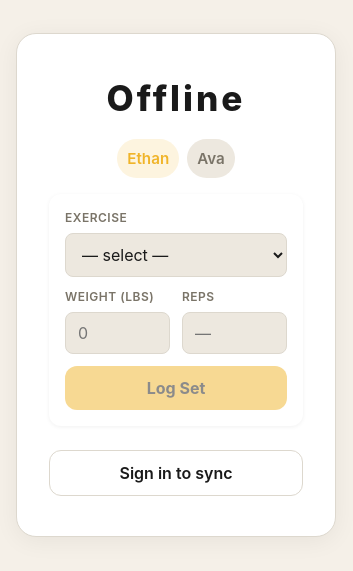
OfflineView — pending badge › shows "2 sets pending sync" after logging two sets
Step 1. Select "Bench Press" in the dropdown labelled "Exercise" → [176, 255], box [65,233,287,277]
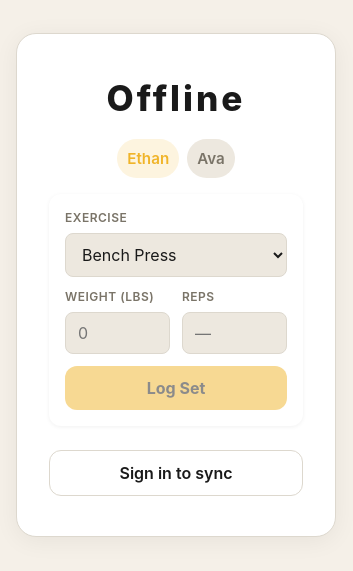
Step 2. Type "135" into the number field labelled "Weight (lbs)" → [118, 333], box [65,312,170,354]
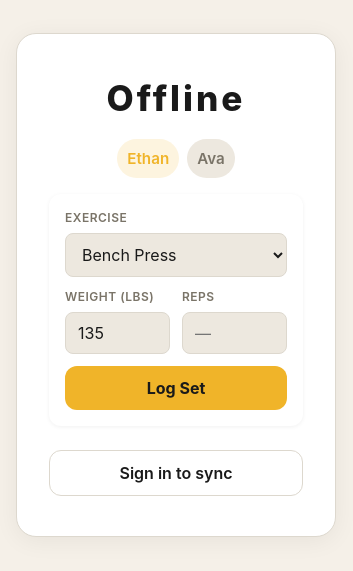
Step 3. Click the button "Log Set" → [176, 388], box [65,366,287,410]
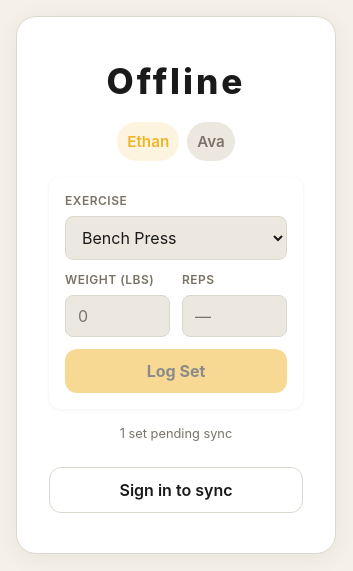
Step 4. Type "145" into the number field labelled "Weight (lbs)" → [118, 316], box [65,295,170,337]
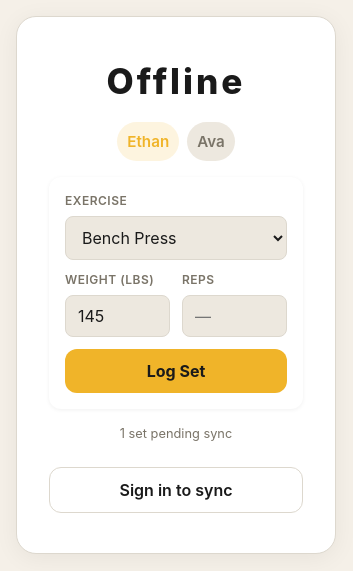
Step 5. Click the button "Log Set" → [176, 371], box [65,349,287,393]
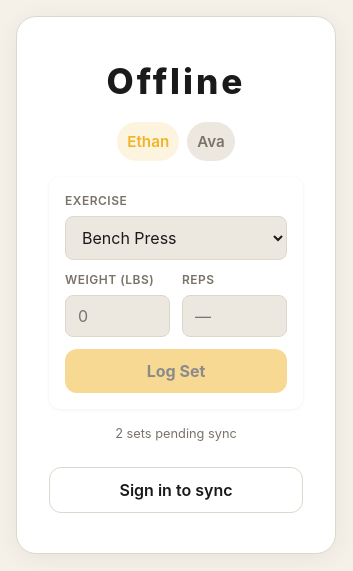
Result: the text "2 sets pending sync" is shown at [115,425,237,443]
